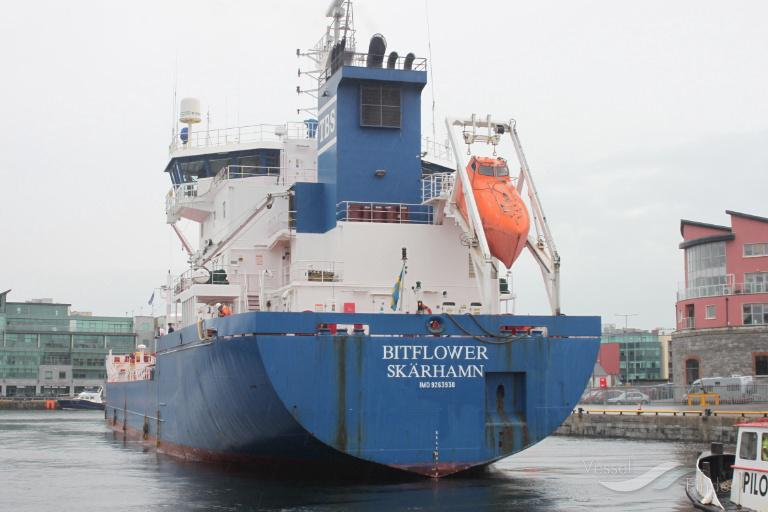OCR: (372, 334, 493, 392)
